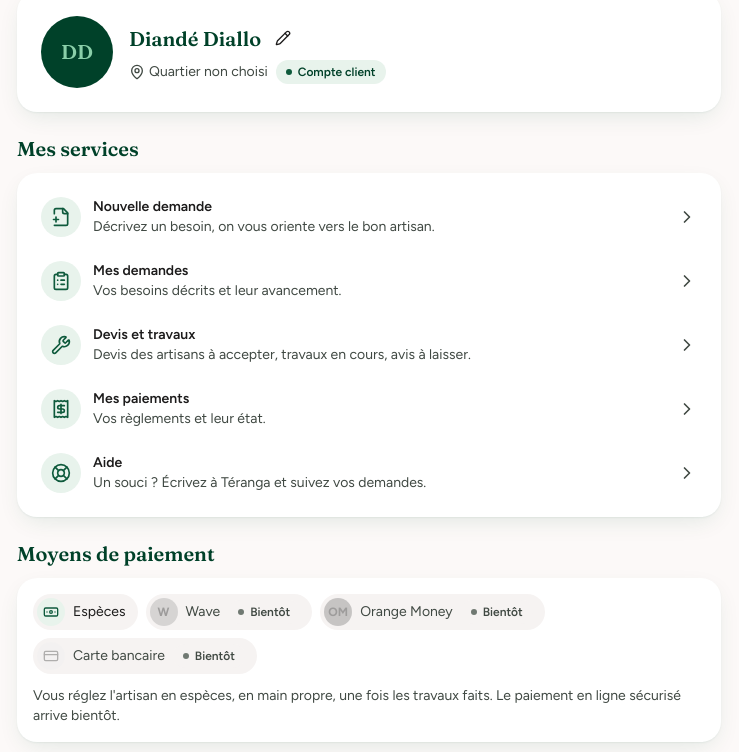
Test: UserProfileScreen › shows the backend's error message inline when the update is rejected
Click the button named "Modifier mon nom": [283, 38] box [265,20,301,56]
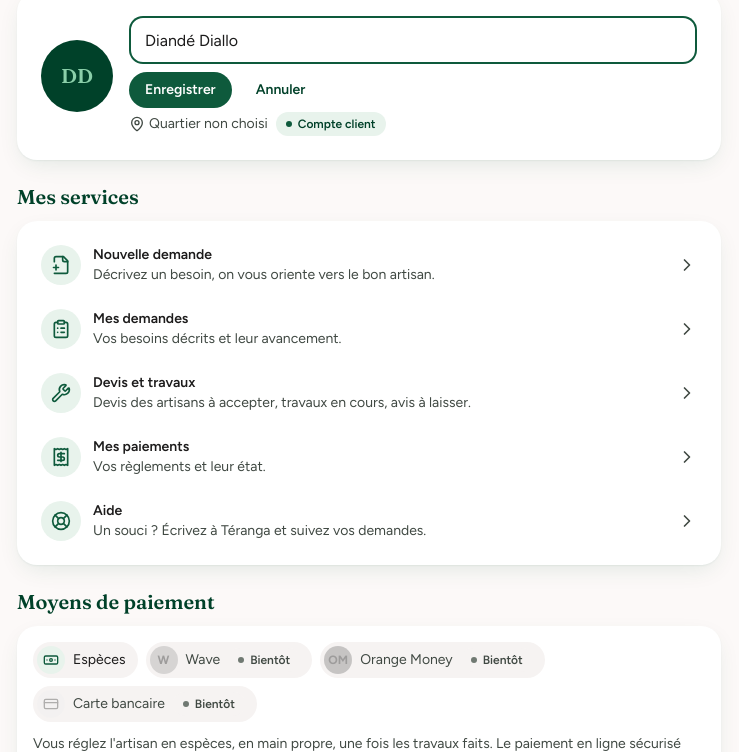
Replace the text in the field showing "Diandé Diallo" with "A": [413, 40] box [129,16,697,64]
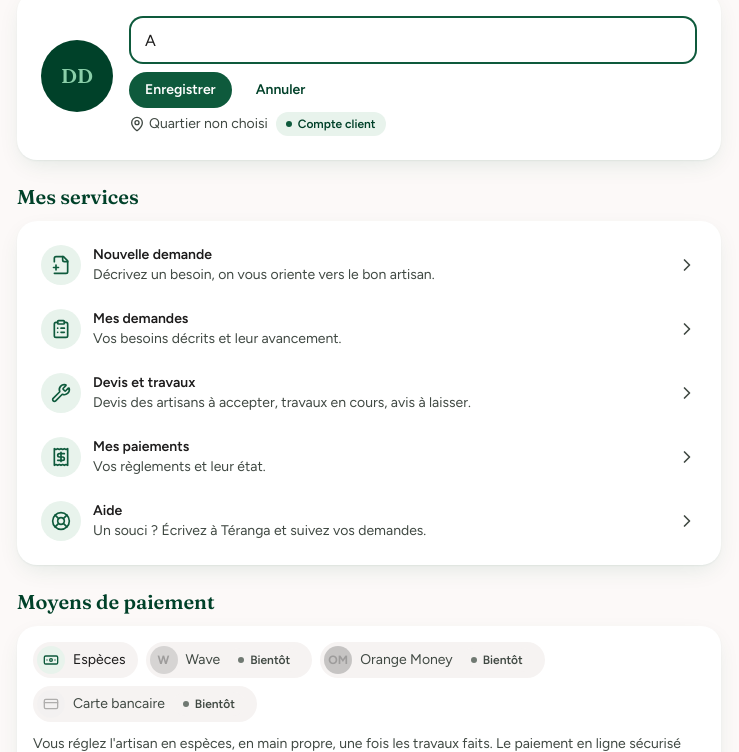
Click the button "Enregistrer": [180, 90] box [129,72,232,108]
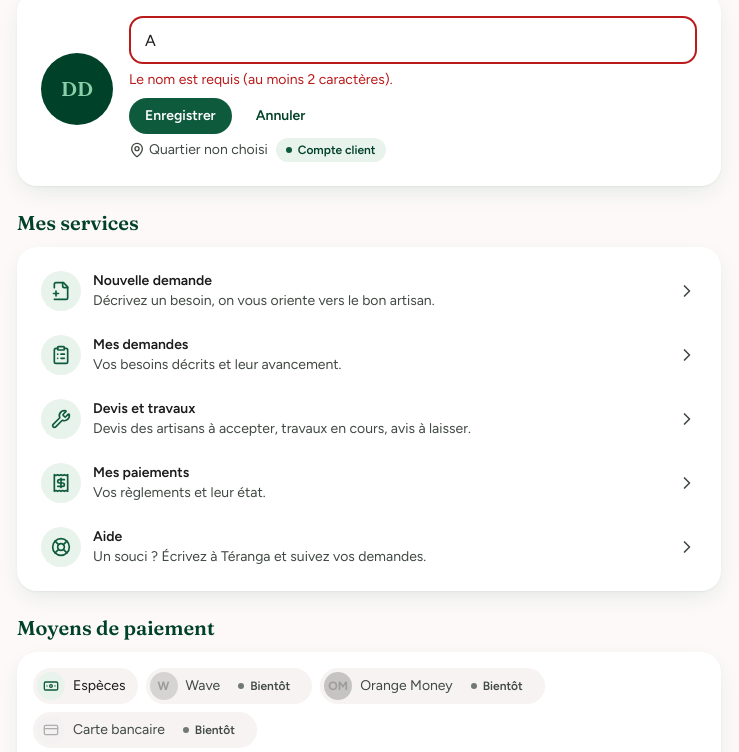
Result: the text "Le nom est requis (au moins 2 caractères)." is shown at [129,71,393,88]
